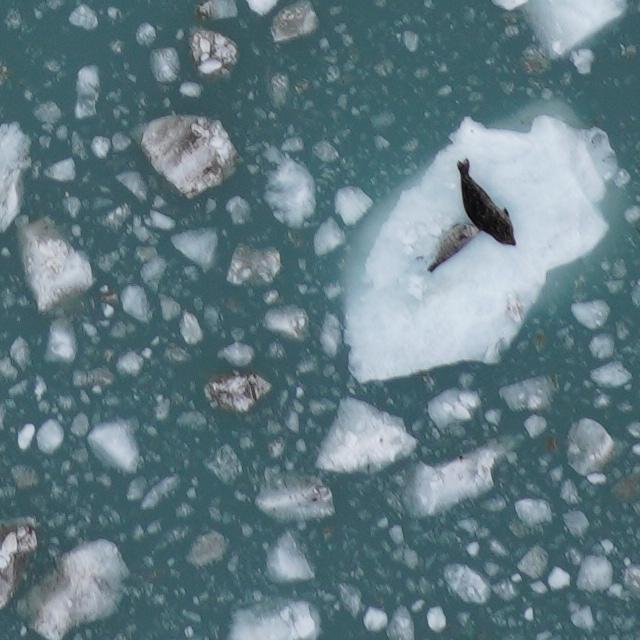seal: (452, 155, 524, 252), (423, 217, 486, 278)
